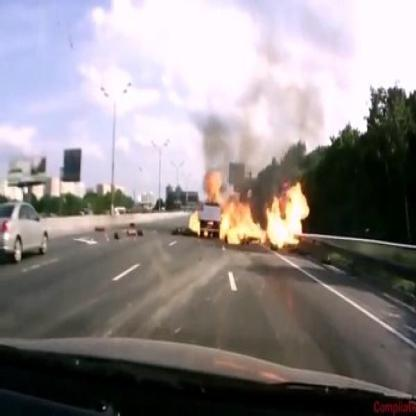fire: (204, 162, 312, 248), (187, 204, 202, 238)
